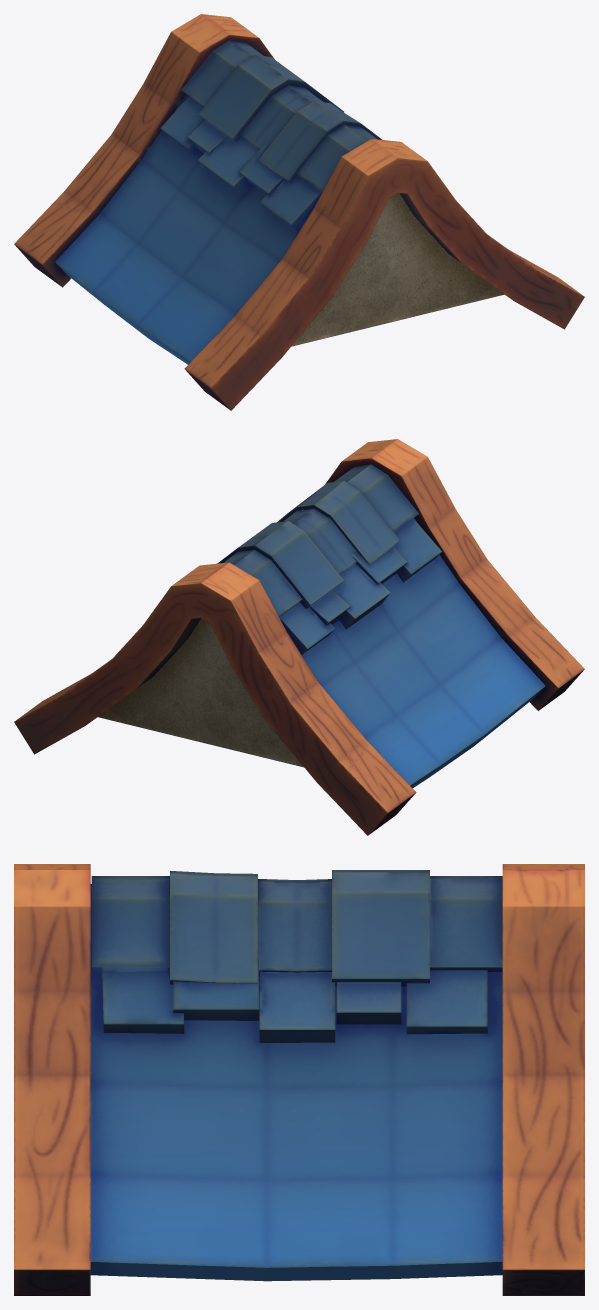
The model's file is RoofFull.dae.
3 renders of one model, top to bottom at view 1: azimuth 30°, elevation 25°; view 2: azimuth 150°, elevation 25°; view 3: azimuth 270°, elevation 25°, orthographic. The views are drawn at different scales.
Visible parts, largest first — view 1: Cube_001; view 2: Cube_001; view 3: Cube_001.
Boxes of the visible parts, bbox=[...] form: Cube_001: bbox=[14, 14, 584, 410]; Cube_001: bbox=[14, 439, 584, 835]; Cube_001: bbox=[14, 864, 584, 1295].
Size of the model in its own units: 7.77 by 7.08 by 4.21.
1 material, 1 textured.
